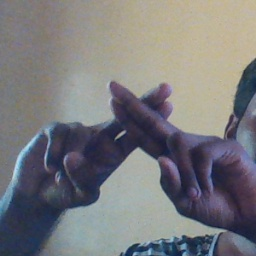F: (68, 71, 213, 187)
